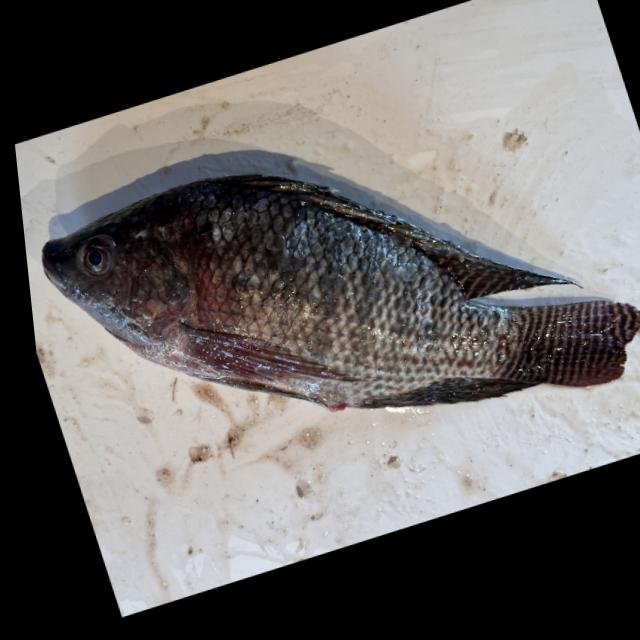Tilapia: (21, 59, 640, 538)
